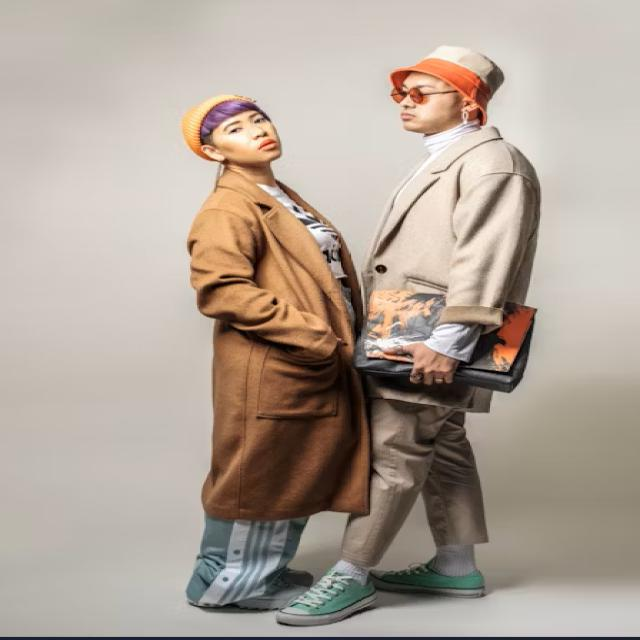Edited images: (147, 36, 560, 625)
